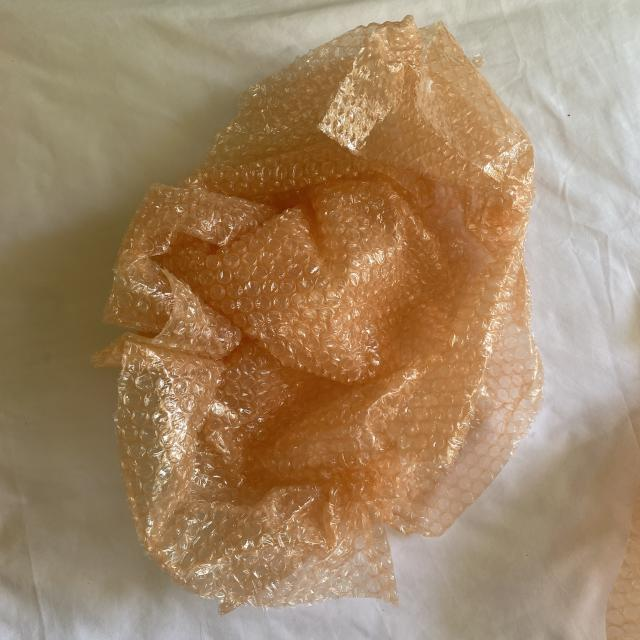Single-layer Plastic: (94, 18, 542, 611)
